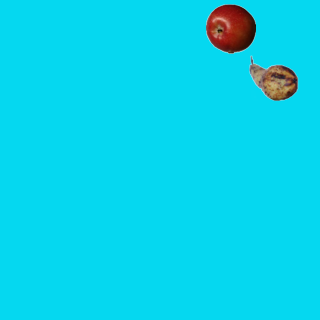Apple Braeburn: (205, 3, 255, 53)
Pear Abate: (248, 53, 298, 103)
